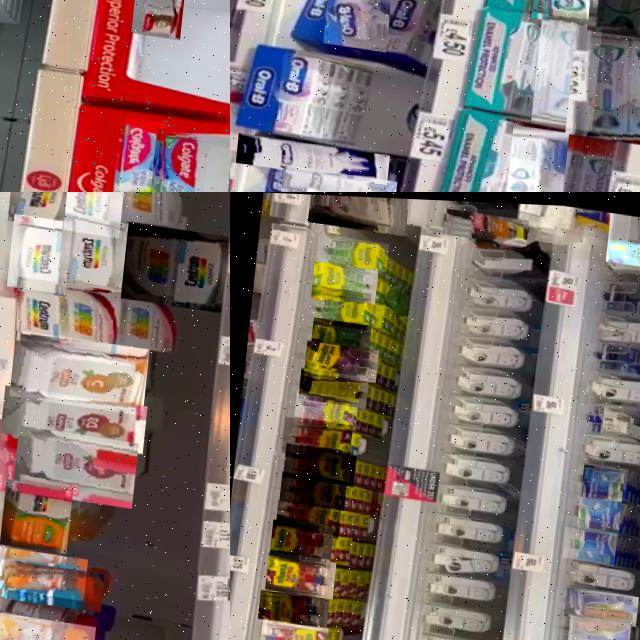Other: (8, 326, 148, 411), (11, 422, 137, 505), (0, 381, 146, 449), (120, 217, 228, 308), (9, 273, 115, 355), (235, 132, 389, 183), (55, 210, 128, 291), (0, 555, 103, 608), (0, 475, 72, 550), (6, 210, 72, 291), (0, 543, 86, 597), (306, 194, 408, 234), (278, 163, 395, 192), (280, 416, 352, 463), (442, 205, 528, 243), (264, 552, 335, 598), (303, 339, 378, 381), (297, 366, 368, 410), (268, 519, 333, 567), (302, 283, 370, 328), (282, 444, 356, 485), (0, 608, 94, 640), (563, 583, 638, 622), (310, 260, 377, 303), (314, 232, 388, 270), (256, 589, 328, 627), (278, 470, 346, 510), (61, 192, 125, 234), (309, 316, 370, 359), (292, 390, 357, 430), (274, 499, 340, 537), (6, 192, 77, 226), (603, 208, 640, 272), (561, 523, 616, 561), (575, 488, 621, 532), (564, 610, 629, 640), (580, 460, 624, 498), (258, 617, 327, 640)
Toothpaste: (563, 20, 640, 140), (530, 14, 602, 127), (499, 120, 567, 192), (274, 51, 329, 137), (148, 121, 209, 192), (116, 111, 166, 192)
